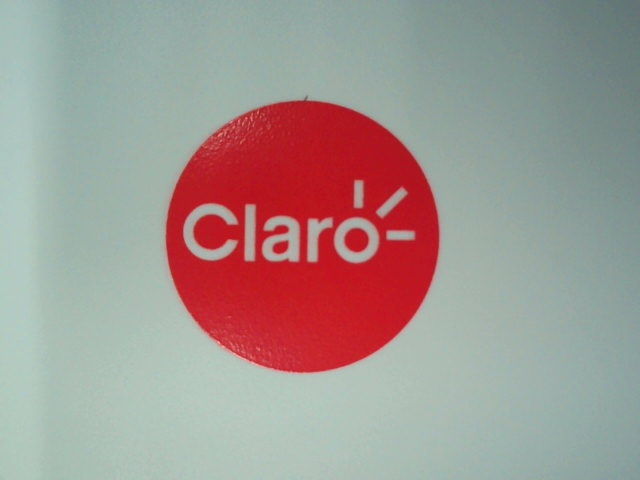BC_ClaorRed: (164, 93, 452, 377)
